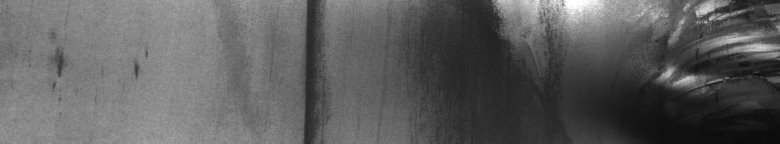ke: (58, 4, 776, 136)
